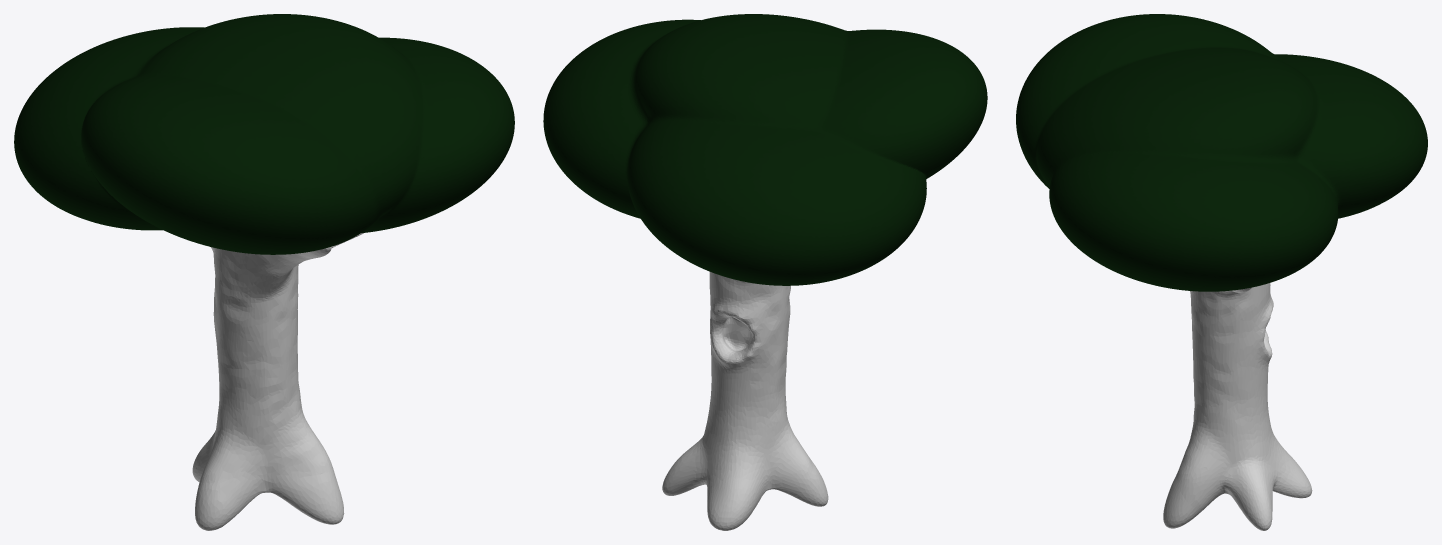
Rendered from Apfelbaum.fbx.
3 views of the same model, side by side, from view 1: azimuth 30°, elevation 25°; view 2: azimuth 150°, elevation 25°; view 3: azimuth 270°, elevation 25° (orthographic). The views are drawn at different scales.
Parts seen in each view (by area): view 1: instance_mesh, instance_mesh_1; view 2: instance_mesh, instance_mesh_1; view 3: instance_mesh, instance_mesh_1.
Boxes of the visible parts, <box> form: instance_mesh: <box>14,14,514,254</box>; instance_mesh_1: <box>192,233,363,530</box>; instance_mesh: <box>543,14,987,285</box>; instance_mesh_1: <box>662,272,828,530</box>; instance_mesh: <box>1016,14,1427,291</box>; instance_mesh_1: <box>1163,283,1312,530</box>.
Bounding box in the file's own units: 0.712 × 0.7911 × 0.6748.
